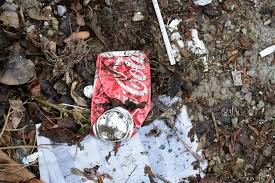Coca-Cola: (117, 57, 144, 123)
